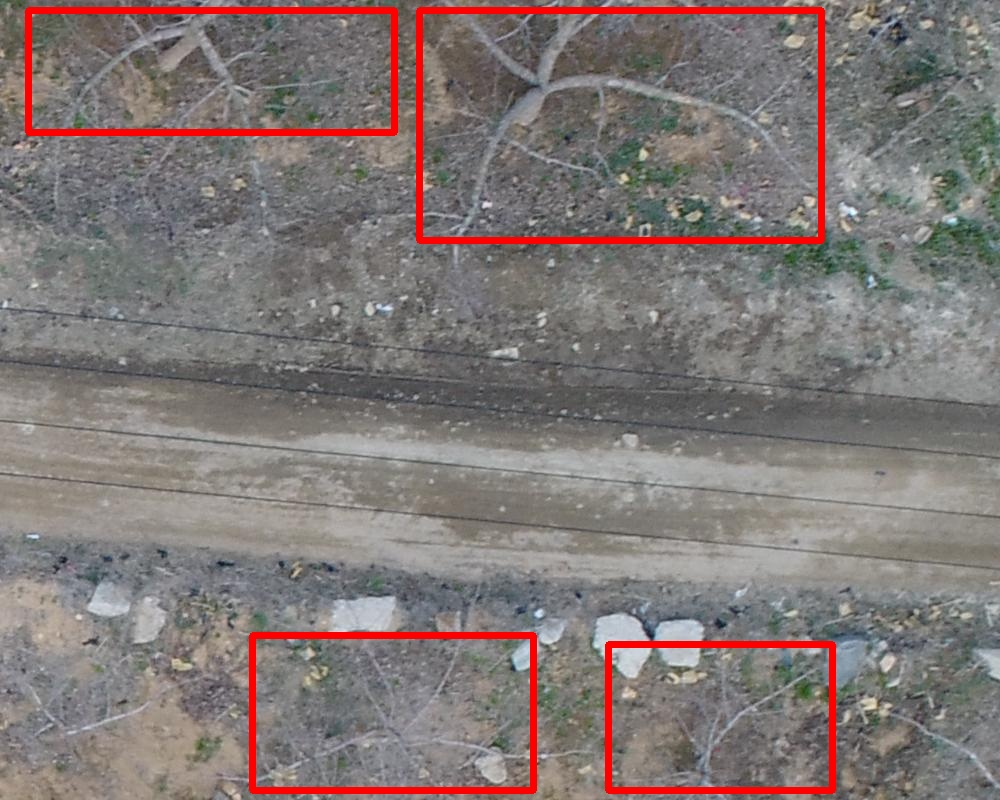apple: (419, 10, 821, 240), (28, 10, 394, 132), (252, 635, 533, 790), (608, 644, 832, 790)
